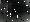person: (6, 5, 12, 18)
